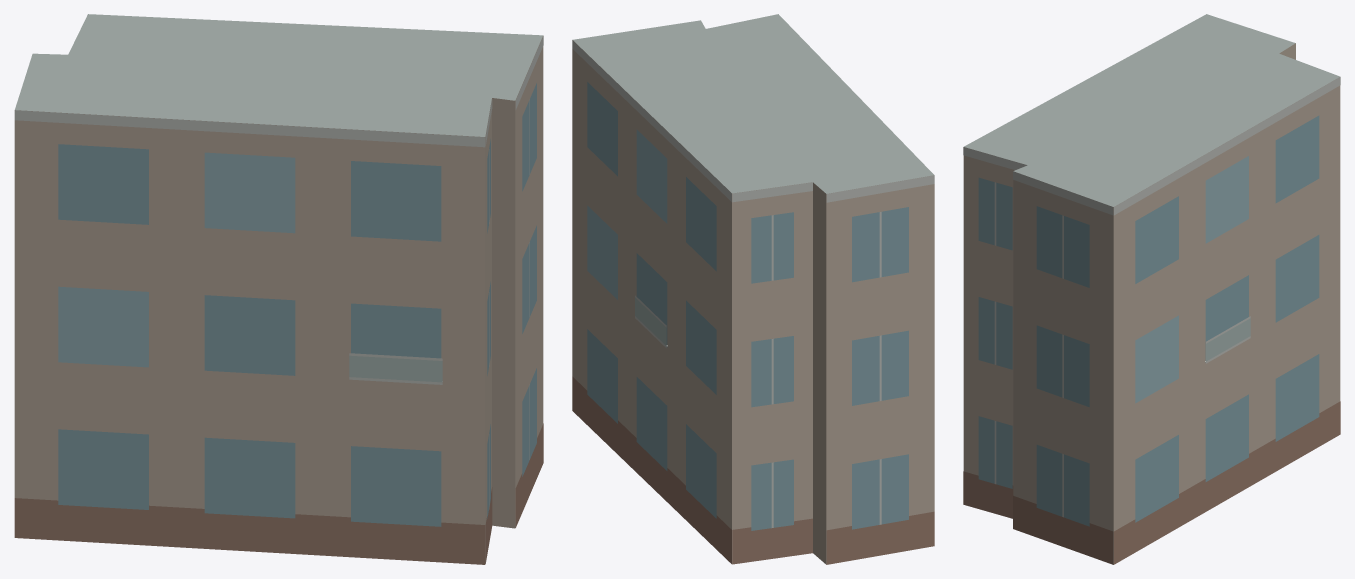
File: survey-upis-32508578.glb
3 views of the same model, side by side, from view 1: azimuth 30°, elevation 25°; view 2: azimuth 150°, elevation 25°; view 3: azimuth 270°, elevation 25° (orthographic). The views are drawn at different scales.
Visible parts, largest first — view 1: survey-upis-32508578.tmp; view 2: survey-upis-32508578.tmp; view 3: survey-upis-32508578.tmp.
Boxes of the visible parts, box(x1,y1,x2,y2) form: survey-upis-32508578.tmp: box(14, 14, 543, 564); survey-upis-32508578.tmp: box(572, 14, 934, 564); survey-upis-32508578.tmp: box(963, 14, 1340, 564).
Size of the model in its own units: 11.81 by 10.2 by 9.75.
